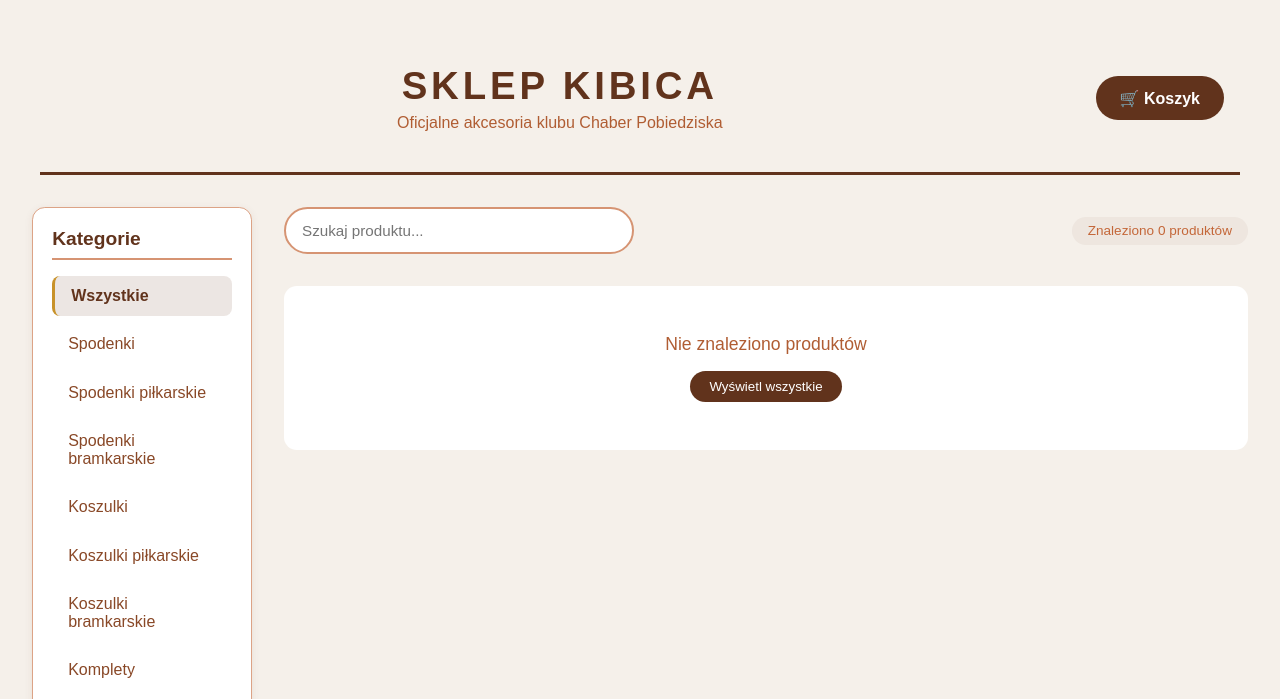
Test: Shop Component › should open cart modal
This screenshot has width=1280, height=699.
Click the button "🛒 Koszyk". click: (1160, 98)
box: x1=1096 y1=76 x2=1224 y2=120
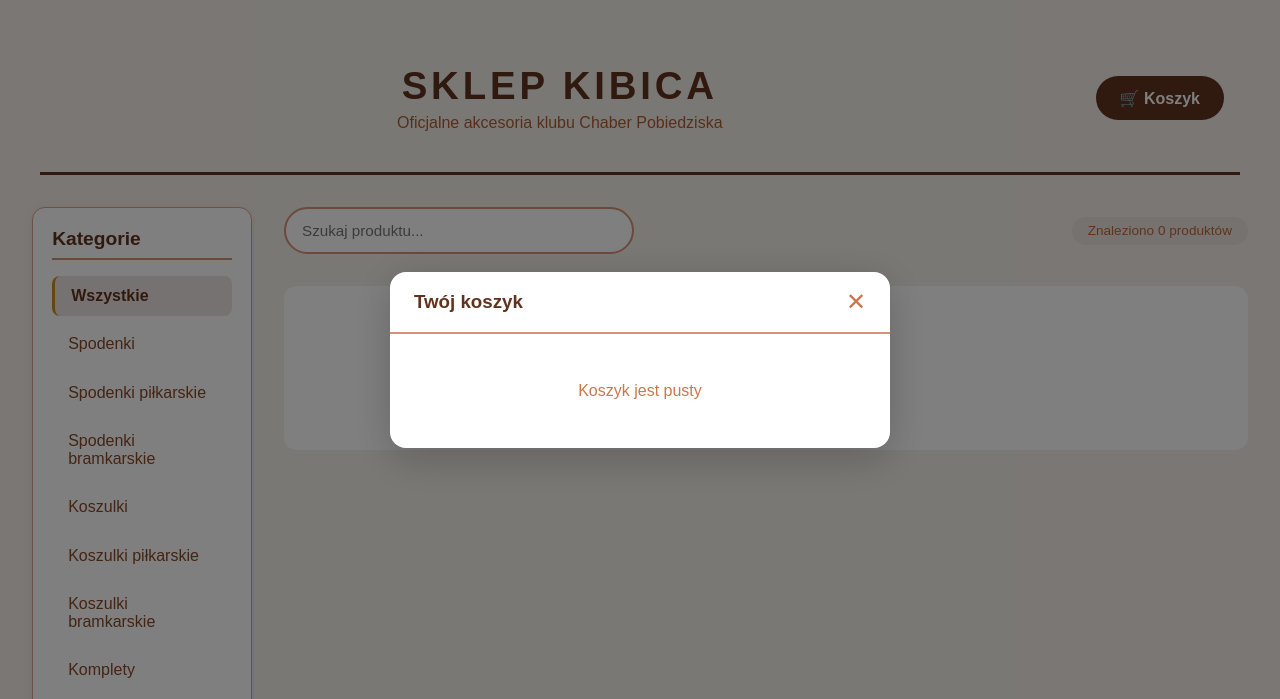
Result: the heading "Twój koszyk" is shown at x1=414 y1=291 x2=523 y2=313
